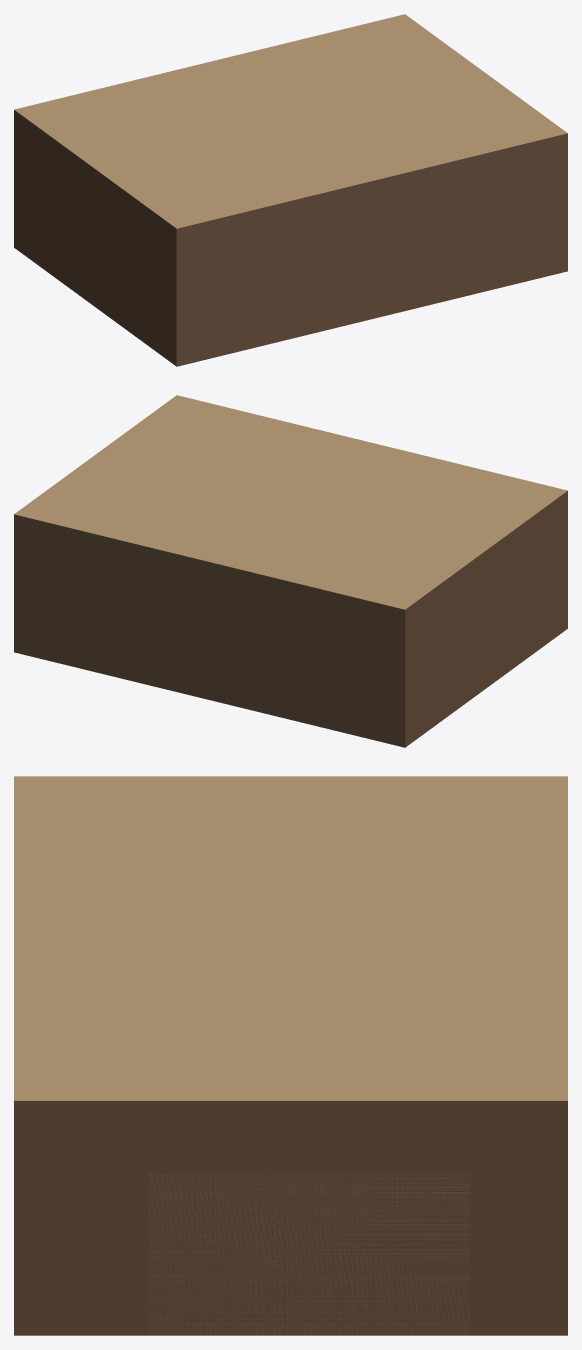
Rendered from shop-in.glb.
3 renders of one model, top to bottom at view 1: azimuth 30°, elevation 25°; view 2: azimuth 150°, elevation 25°; view 3: azimuth 270°, elevation 25°, orthographic. The views are drawn at different scales.
Parts seen in each view (by area): view 1: shop-in; view 2: shop-in; view 3: shop-in.
Boxes of the visible parts, left/top/right/bottom form: shop-in: left=14, top=14, right=567, bottom=366; shop-in: left=14, top=395, right=567, bottom=747; shop-in: left=14, top=776, right=567, bottom=1335.
Size of the model in its own units: 8.6 by 2.9 by 6.2.
